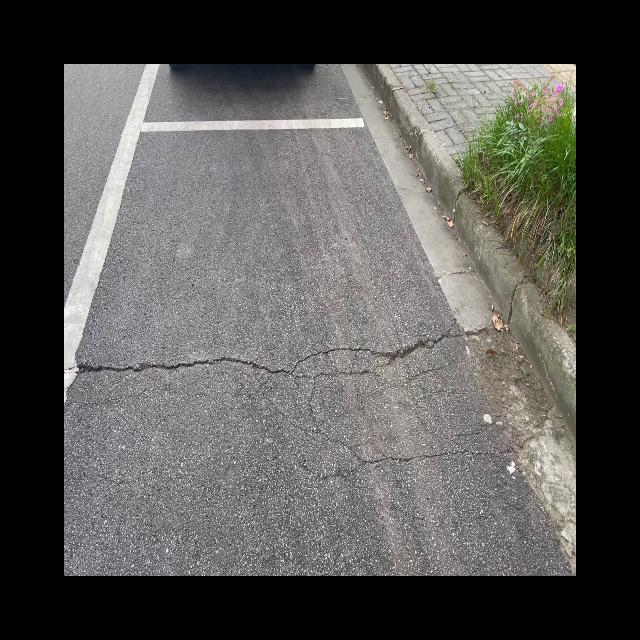retak_memanjang: (64, 302, 491, 384), (254, 405, 507, 489)
